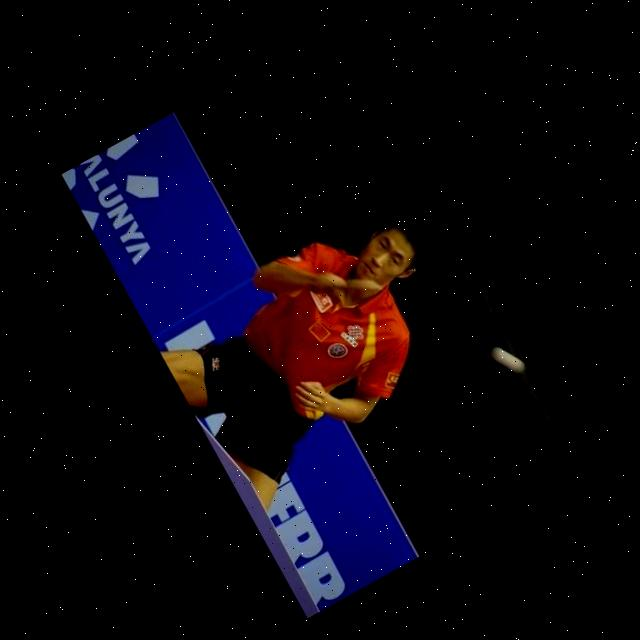ping-pong-ball: (486, 339, 526, 383)
